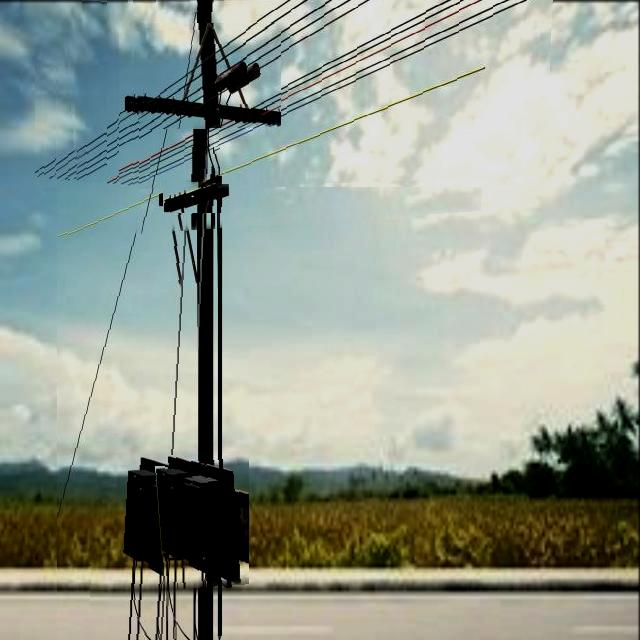crossarm: (137, 23, 281, 128), (169, 455, 249, 585), (163, 184, 230, 213)
pole: (197, 0, 214, 508)
transformer: (185, 475, 216, 575), (156, 467, 184, 558)
wire: (57, 1, 200, 547), (139, 0, 534, 187), (133, 9, 538, 183), (119, 0, 471, 183), (120, 0, 461, 185), (67, 76, 452, 238), (107, 0, 444, 185), (76, 13, 383, 182), (74, 0, 352, 181), (57, 0, 330, 180), (44, 0, 311, 177), (35, 0, 288, 175), (164, 553, 169, 638), (173, 559, 178, 640), (217, 194, 220, 317), (213, 147, 220, 175)
